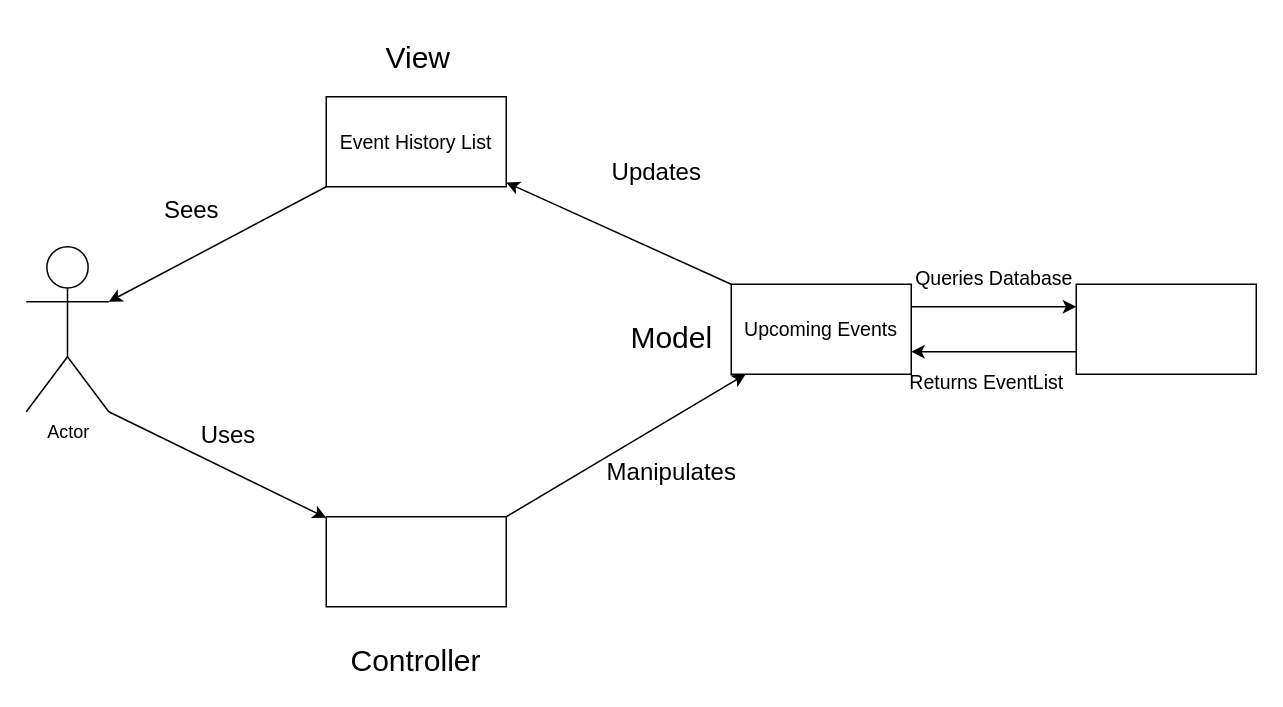
Some shapes in this 1283 by 707 pixel diagram are drawn without their labels. The centre of each missing label's shape, as x and y in pixels:
"Database of Events" belongs at pixel 1165 328.
"loadPastEventsByUser" belongs at pixel 415 561.
